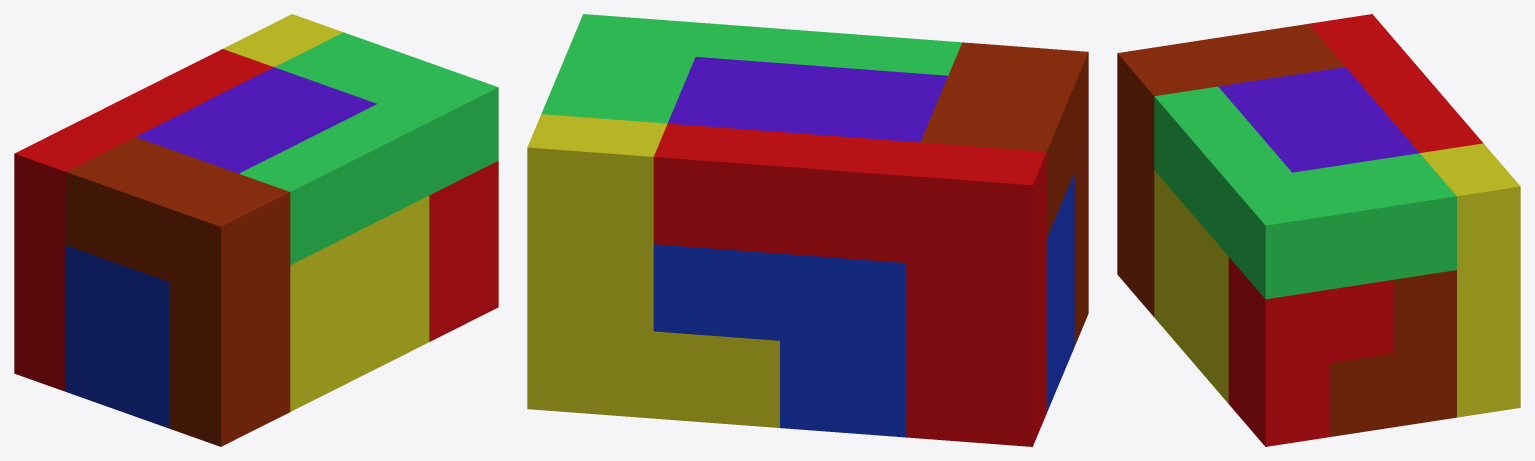
Rendered from Tetris_Build.fbx.
3 views of the same model, side by side, from view 1: azimuth 30°, elevation 25°; view 2: azimuth 150°, elevation 25°; view 3: azimuth 270°, elevation 25° (orthographic). The views are drawn at different scales.
Parts seen in each view (by area): view 1: Orange, Green, Red, Yellow2, Blue2, Purple, Red2, Yellow; view 2: Red, Yellow, Blue, Green, Orange, Purple, Blue2; view 3: Green, Red2, Orange, Yellow, Orange2, Purple, Yellow2, Red.
Boxes of the visible parts, left/top/right/bottom form: Orange: left=66, top=137, right=290, bottom=446; Green: left=239, top=32, right=498, bottom=264; Red: left=14, top=49, right=273, bottom=391; Yellow2: left=290, top=196, right=429, bottom=411; Blue2: left=66, top=245, right=169, bottom=428; Purple: left=136, top=67, right=376, bottom=173; Red2: left=429, top=161, right=498, bottom=341; Yellow: left=223, top=14, right=343, bottom=66; Red: left=653, top=123, right=1046, bottom=446; Yellow: left=527, top=114, right=779, bottom=427; Blue: left=653, top=244, right=906, bottom=437; Green: left=541, top=14, right=961, bottom=123; Orange: left=920, top=42, right=1088, bottom=346; Purple: left=667, top=57, right=947, bottom=142; Blue2: left=1046, top=173, right=1074, bottom=412; Green: left=1154, top=86, right=1456, bottom=299; Red2: left=1228, top=257, right=1392, bottom=446; Orange: left=1117, top=24, right=1345, bottom=316; Yellow: left=1420, top=143, right=1520, bottom=417; Orange2: left=1329, top=270, right=1456, bottom=436; Purple: left=1218, top=67, right=1419, bottom=172; Yellow2: left=1154, top=170, right=1228, bottom=403; Red: left=1309, top=14, right=1482, bottom=152.
Bounding box in the file's own units: 1028 × 501 × 828.
6 materials, 6 textured.
